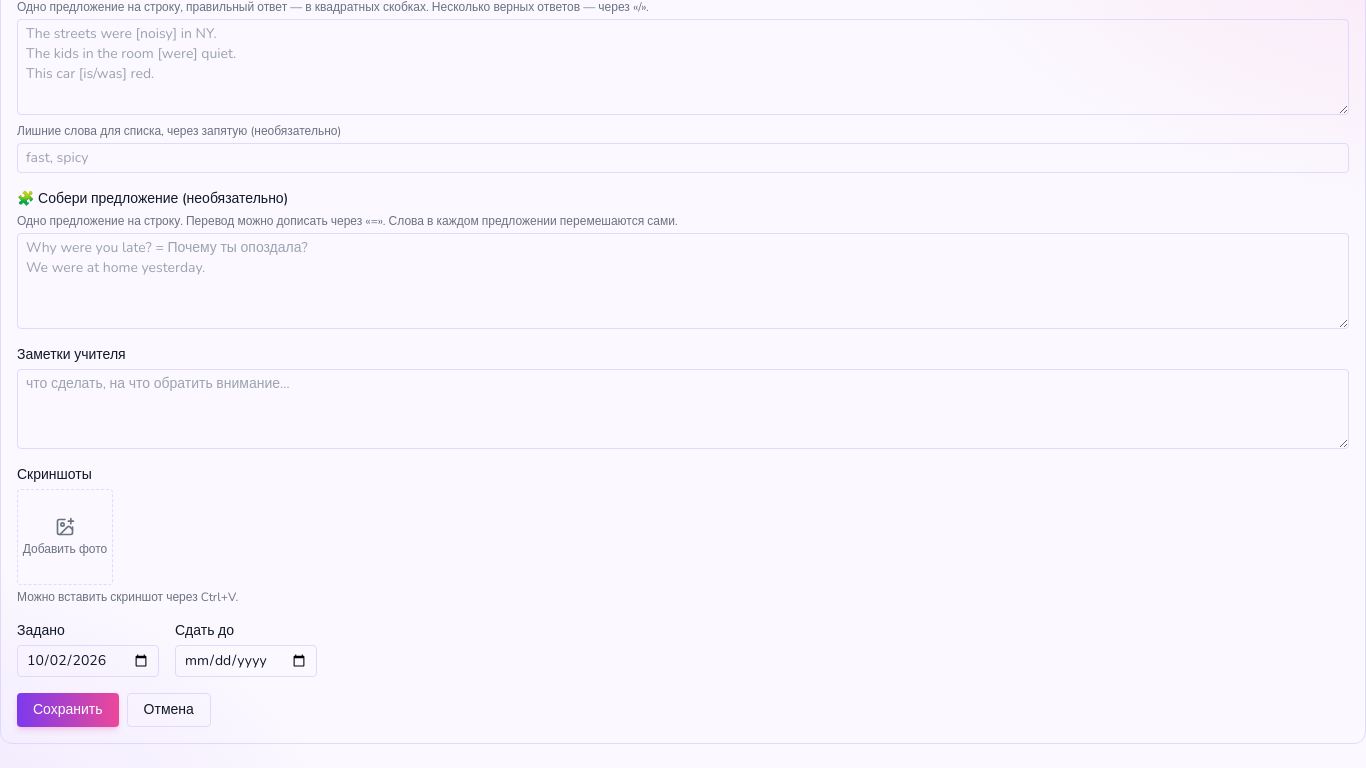
Scenario: AssignHomeworkForm › does not save without any book number
(page scrolled)
Click the button "Сохранить" at (68, 710), box 17,693 -> 119,727
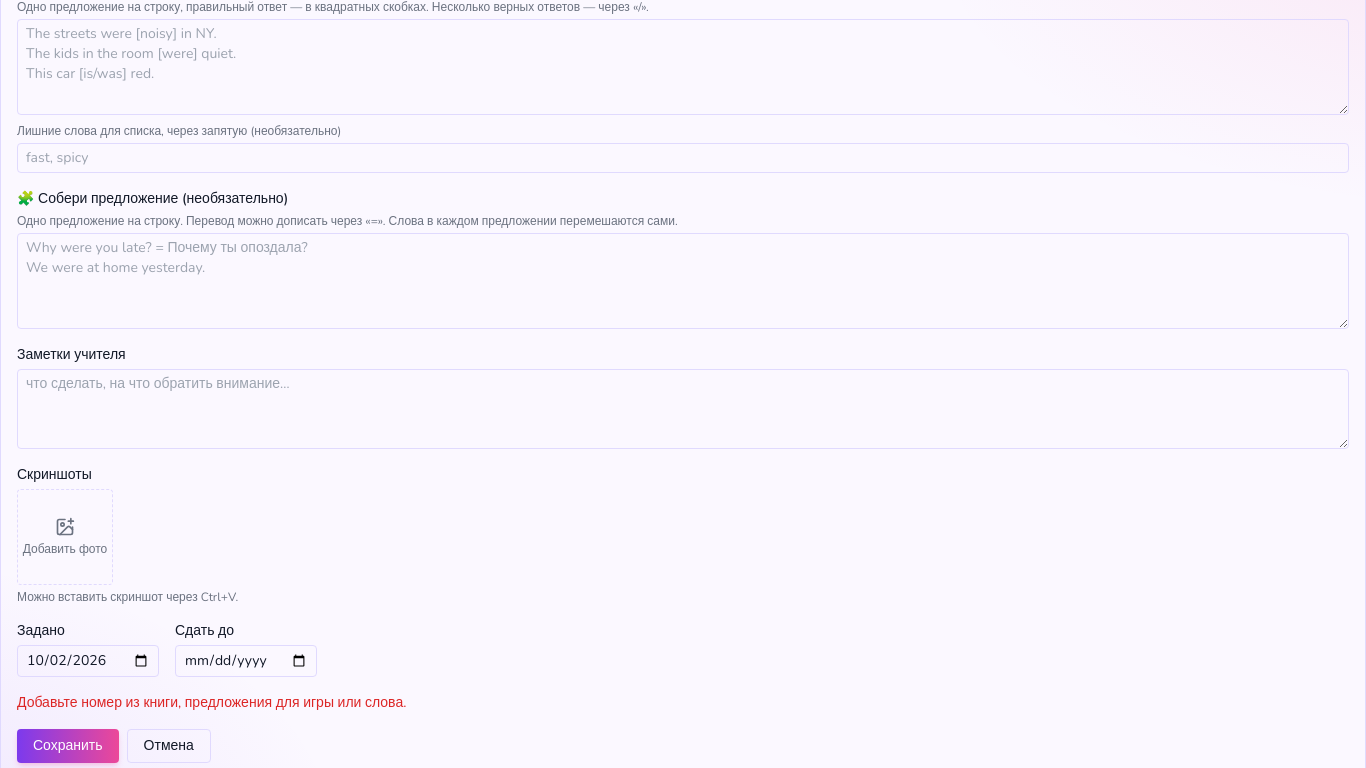
Now the text "Добавьте номер из книги, предложения для игры или слова." is shown, box 17,693 -> 406,712
